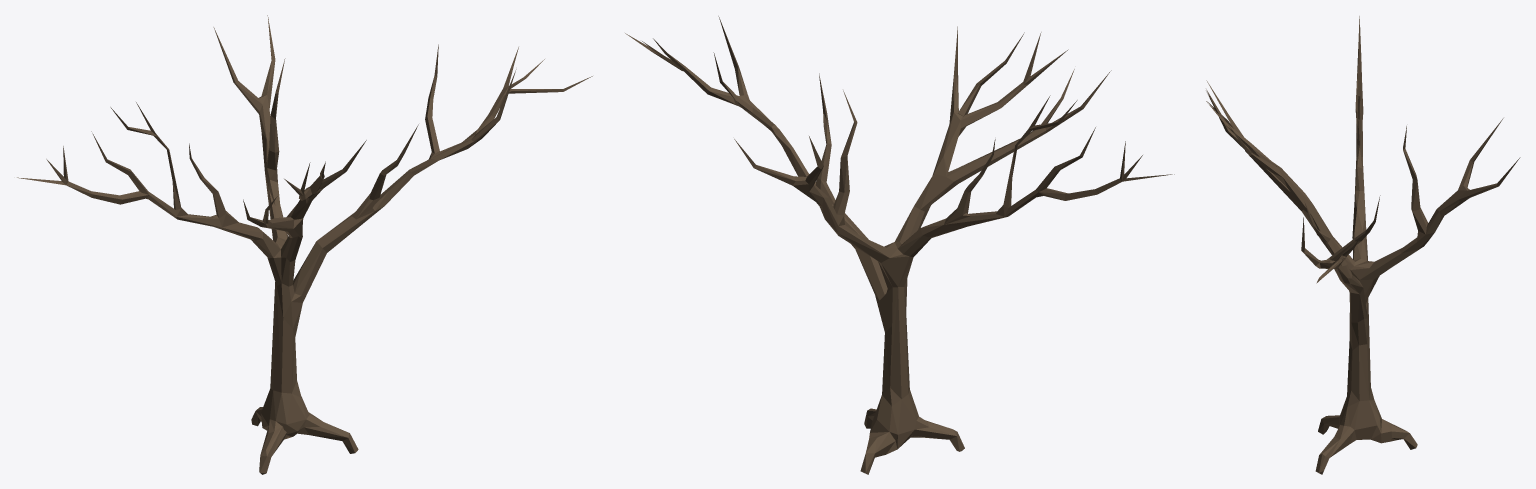
Rendered from SM_Envr_Nature_Tree_Large_Dead_02.fbx.
The picture shows the model from 3 angles, left to right: view 1: azimuth 30°, elevation 25°; view 2: azimuth 150°, elevation 25°; view 3: azimuth 270°, elevation 25°; orthographic projection. The views are drawn at different scales.
Visible parts, largest first — view 1: SM_Envr_Nature_Tree_Large_Dead_02; view 2: SM_Envr_Nature_Tree_Large_Dead_02; view 3: SM_Envr_Nature_Tree_Large_Dead_02.
Part boxes in pixels (left/top/right/bottom): SM_Envr_Nature_Tree_Large_Dead_02: left=17, top=15, right=592, bottom=474; SM_Envr_Nature_Tree_Large_Dead_02: left=625, top=16, right=1174, bottom=474; SM_Envr_Nature_Tree_Large_Dead_02: left=1206, top=16, right=1520, bottom=474.
Bounding box in the file's own units: 1097 × 729 × 581.
